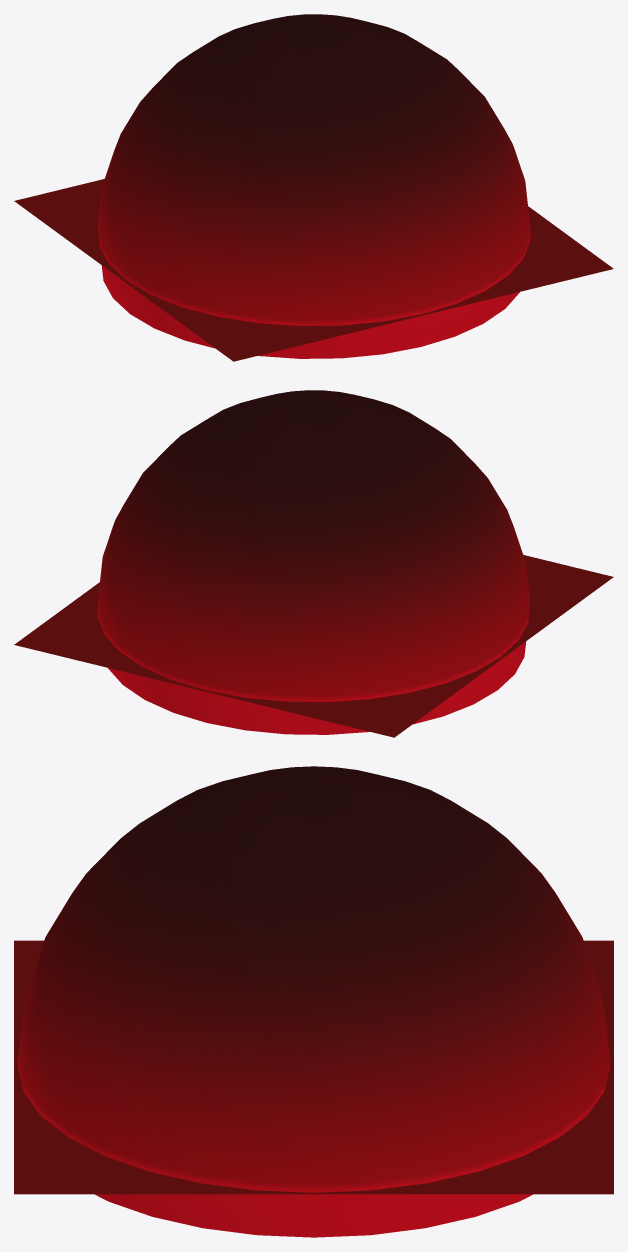
File: NewMoon.glb
3 views of the same model, one above another, from view 1: azimuth 30°, elevation 25°; view 2: azimuth 150°, elevation 25°; view 3: azimuth 270°, elevation 25° (orthographic). The views are drawn at different scales.
Parts seen in each view (by area): view 1: Sphere, Plane; view 2: Sphere, Plane; view 3: Sphere, Plane.
Part boxes in pixels (bbox=[...]): Sphere: bbox=[98, 14, 530, 358]; Plane: bbox=[14, 179, 613, 361]; Sphere: bbox=[97, 390, 529, 734]; Plane: bbox=[14, 555, 613, 737]; Sphere: bbox=[17, 766, 610, 1237]; Plane: bbox=[14, 940, 613, 1194].
Size of what is drawn, in the model's own units: 490 by 293 by 490.
Materials: 12 (9 with a texture image).
